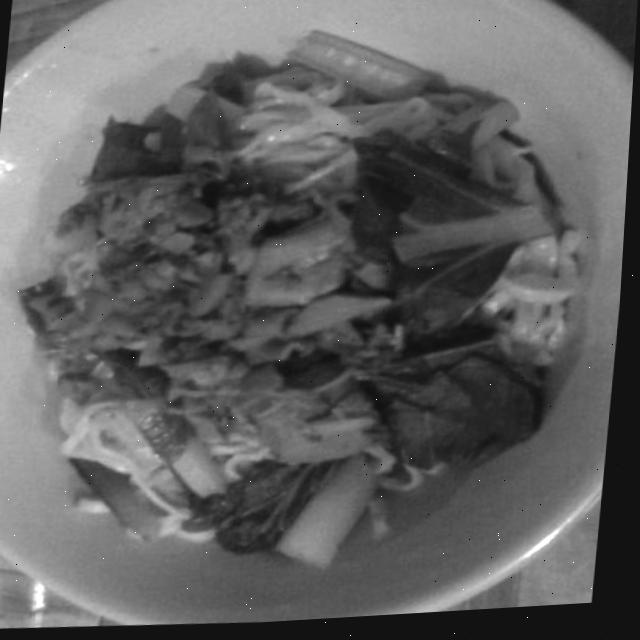面条主食: (0, 1, 580, 587)
